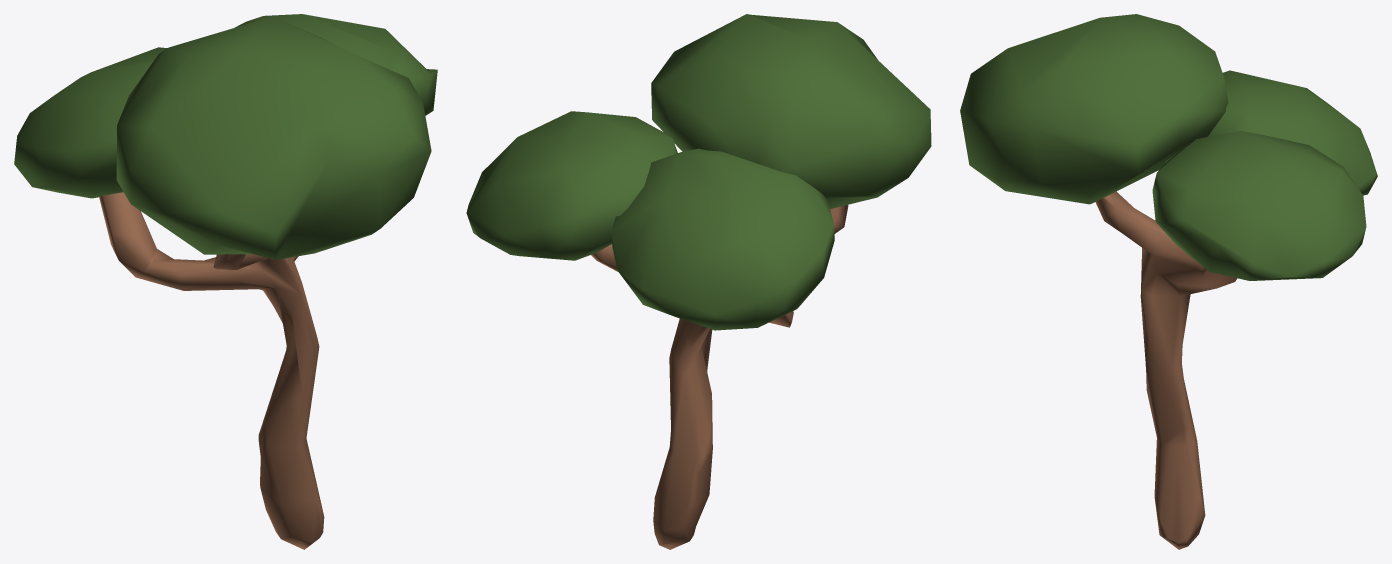
Rendered from Tree.fbx.
3 renders of one model, left to right at view 1: azimuth 30°, elevation 25°; view 2: azimuth 150°, elevation 25°; view 3: azimuth 270°, elevation 25°, orthographic. The views are drawn at different scales.
Visible parts, largest first — view 1: pPlatonic2; view 2: pPlatonic2; view 3: pPlatonic2.
Boxes of the visible parts, left/top/right/bottom form: pPlatonic2: left=14, top=14, right=437, bottom=549; pPlatonic2: left=466, top=14, right=931, bottom=549; pPlatonic2: left=960, top=14, right=1377, bottom=549.
Bounding box in the file's own units: 6.16 × 8.47 × 6.61.
